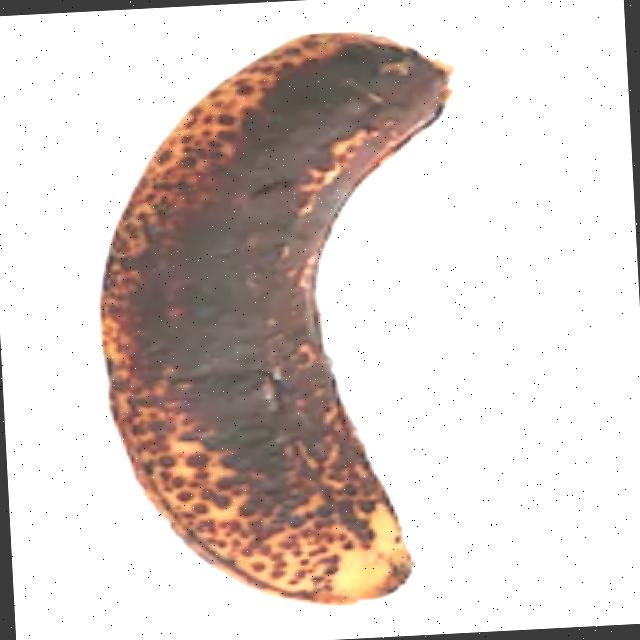Rotten: (73, 8, 495, 628)
